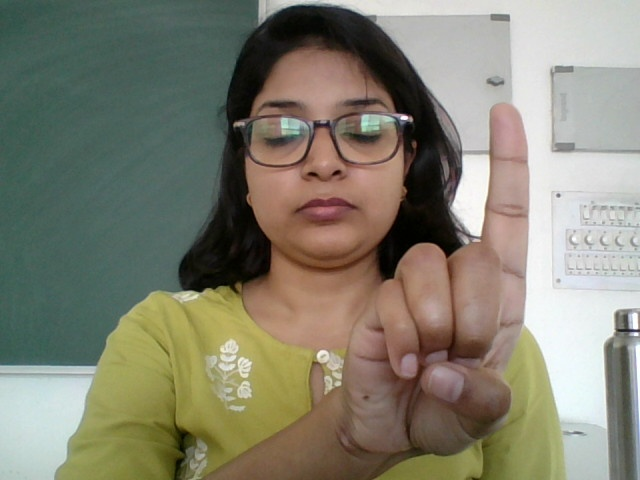D: (348, 95, 556, 451)
